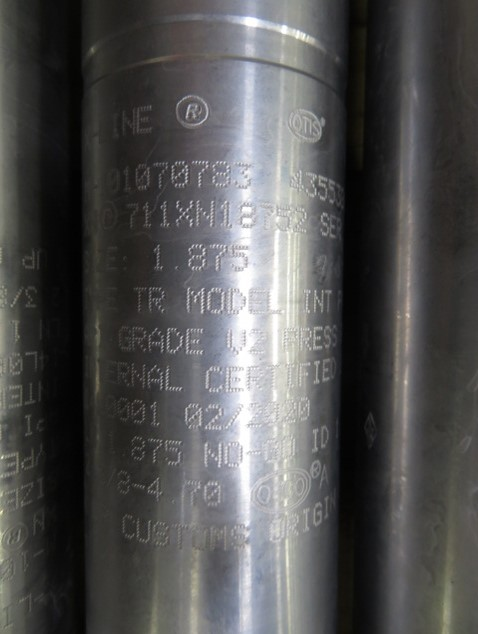character: (184, 323, 207, 363), (185, 284, 207, 321), (222, 327, 247, 358), (245, 285, 266, 321), (186, 240, 208, 274), (236, 198, 259, 230), (229, 241, 252, 273), (145, 281, 166, 316), (209, 156, 230, 190), (194, 198, 217, 229), (223, 363, 245, 395), (181, 400, 203, 432), (226, 284, 246, 319), (169, 156, 190, 189), (202, 441, 225, 471), (210, 240, 229, 276), (126, 363, 148, 394), (190, 156, 210, 190), (162, 439, 185, 468), (207, 283, 225, 319), (174, 200, 194, 232), (228, 522, 250, 551), (264, 289, 285, 319), (163, 326, 184, 356), (202, 403, 223, 433), (208, 524, 229, 554), (163, 364, 183, 395), (151, 518, 171, 549), (232, 160, 253, 189), (170, 519, 189, 551), (133, 160, 150, 195), (147, 475, 165, 508), (156, 197, 172, 234), (274, 203, 293, 234), (204, 364, 223, 395), (244, 365, 265, 393), (146, 434, 164, 466), (224, 440, 243, 470), (266, 361, 283, 394), (129, 433, 146, 466), (151, 159, 169, 190), (248, 326, 267, 355), (145, 361, 162, 393), (294, 205, 309, 241), (134, 515, 152, 545), (184, 478, 203, 506), (219, 199, 235, 232), (203, 477, 219, 510), (150, 241, 167, 272), (280, 396, 297, 427), (116, 467, 131, 502), (123, 200, 141, 229), (113, 326, 132, 353), (259, 201, 275, 232), (283, 364, 299, 395), (148, 400, 164, 431), (297, 394, 313, 425), (261, 401, 279, 428), (131, 282, 146, 314), (192, 522, 207, 554), (116, 361, 131, 392), (118, 513, 135, 540), (131, 326, 146, 355), (149, 326, 164, 355), (295, 361, 310, 390), (309, 360, 324, 389), (304, 170, 318, 201), (246, 402, 262, 429), (119, 165, 133, 195), (289, 167, 303, 197), (132, 397, 146, 426), (312, 290, 327, 316), (141, 201, 153, 233), (299, 287, 312, 316), (133, 481, 148, 494)
